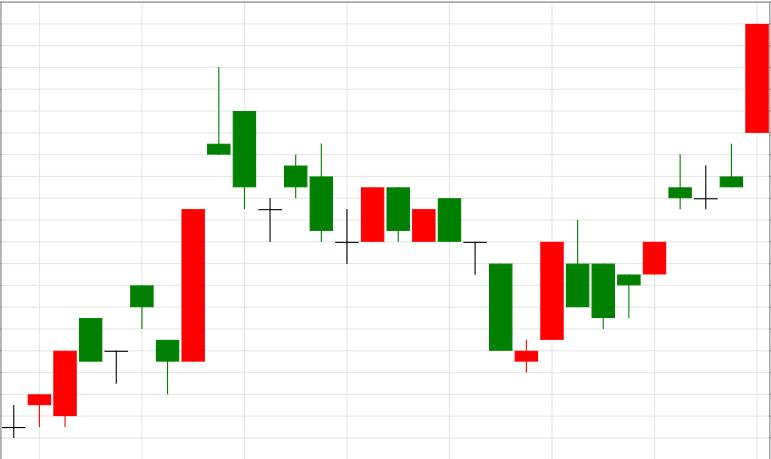morning_star_rise: (206, 67, 384, 263), (387, 187, 563, 373)
